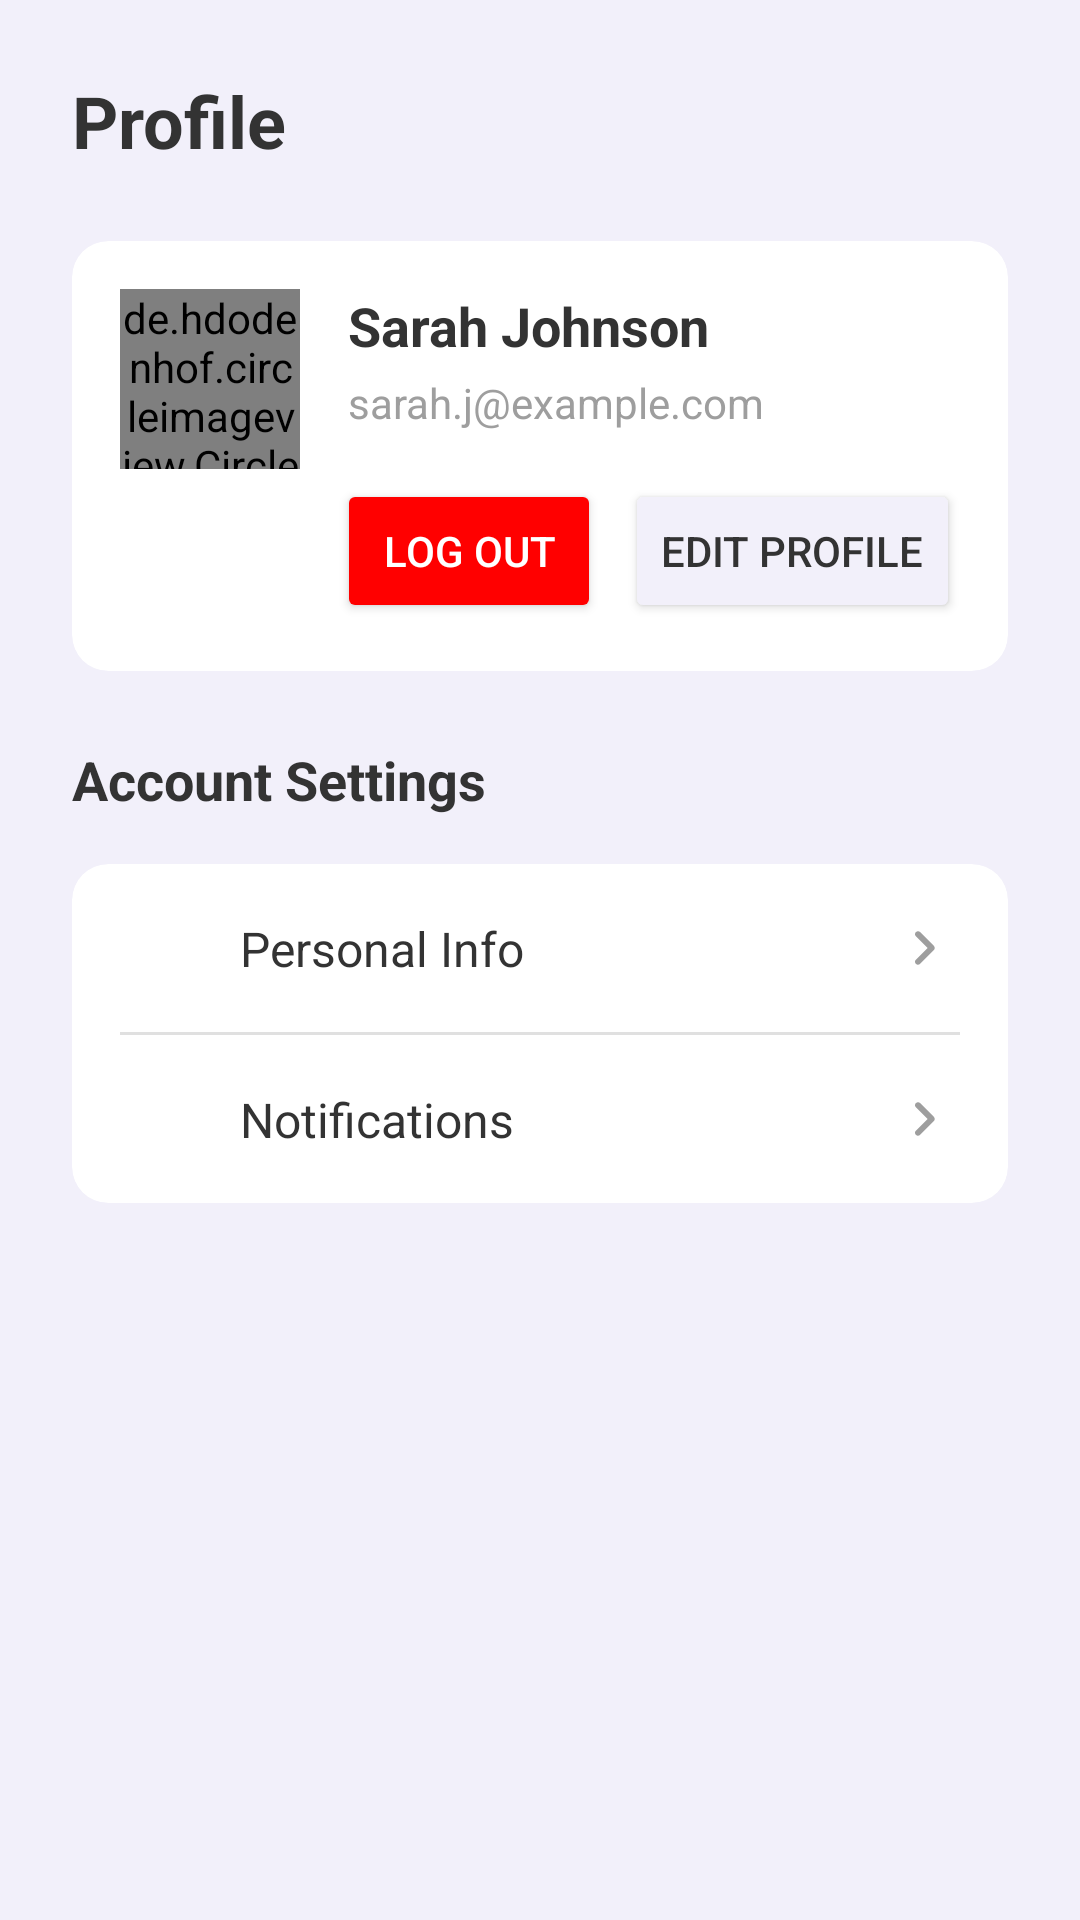

Screen size 1080 x 1920. Icon name, then its box in pixels as (x1, y1, x2, y2):
chevron right: (915, 931, 935, 965), (915, 1102, 935, 1136)
